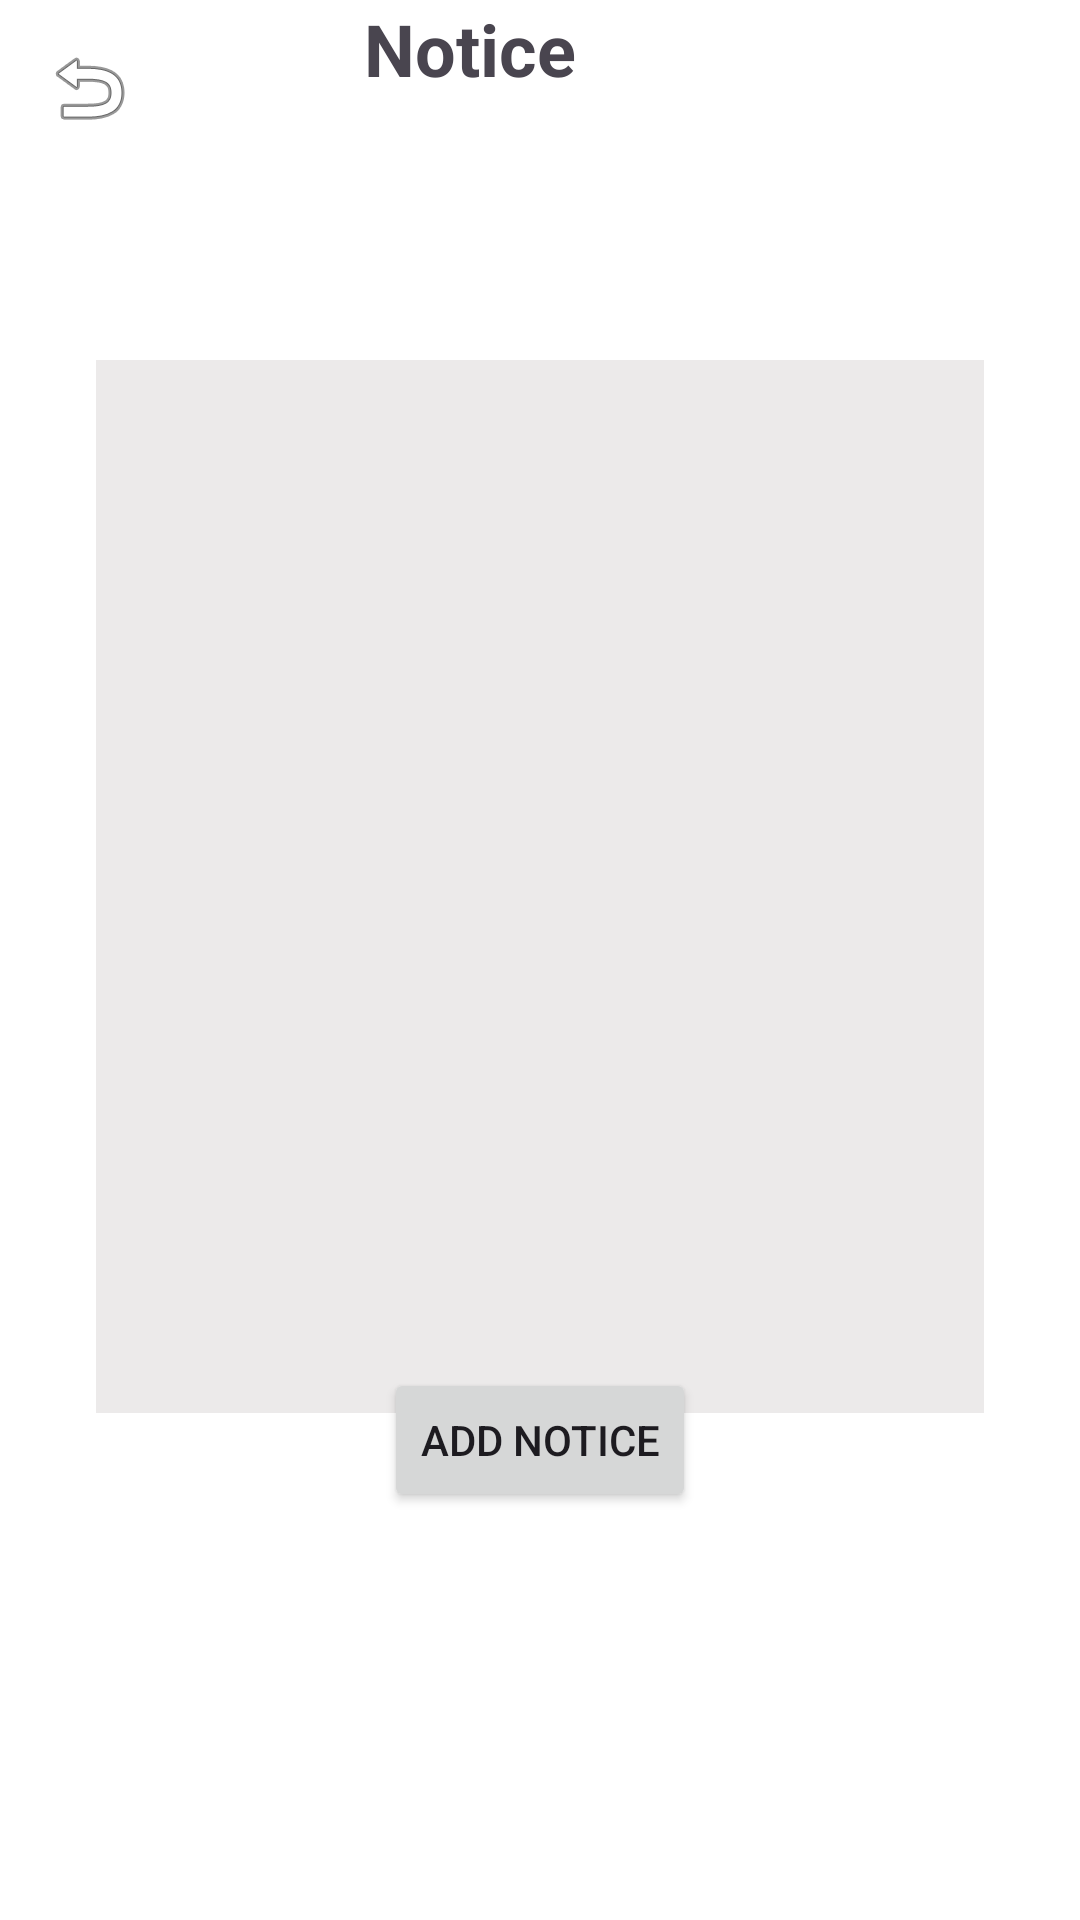

Where icons sit on this 1080px x 1920px app screen, as (x1, y1, x2, y2):
revert: (56, 57, 125, 120)
